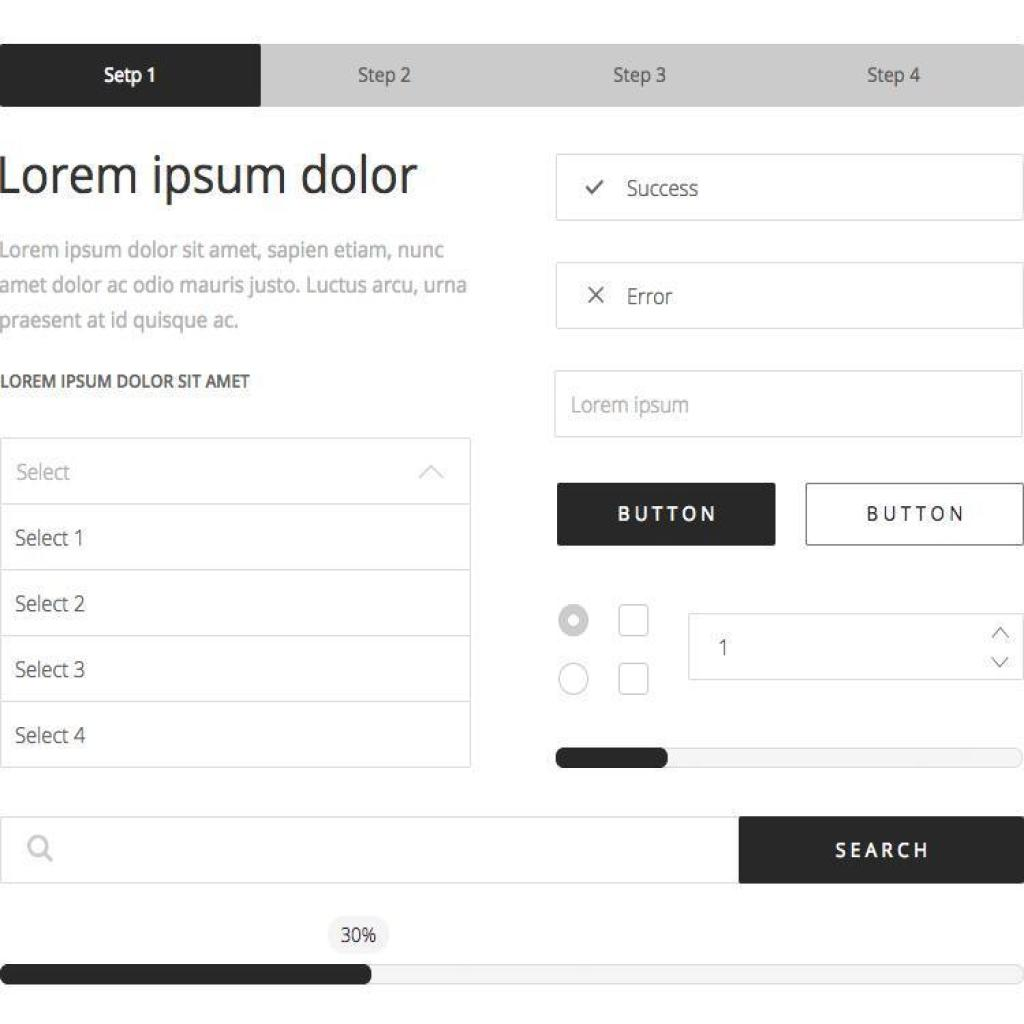button: (737, 819, 1024, 884), (803, 481, 1024, 547), (556, 481, 777, 544)
checkbox: (617, 604, 650, 638), (618, 662, 650, 696)
dropdown: (1, 435, 474, 506), (685, 613, 1024, 679)
input: (2, 813, 738, 885), (555, 260, 1024, 330), (551, 368, 1024, 437), (554, 152, 1024, 221)
label: (10, 518, 88, 556), (14, 717, 92, 753), (12, 591, 89, 622), (14, 655, 90, 685)
radio: (558, 661, 590, 695), (557, 604, 589, 636)
